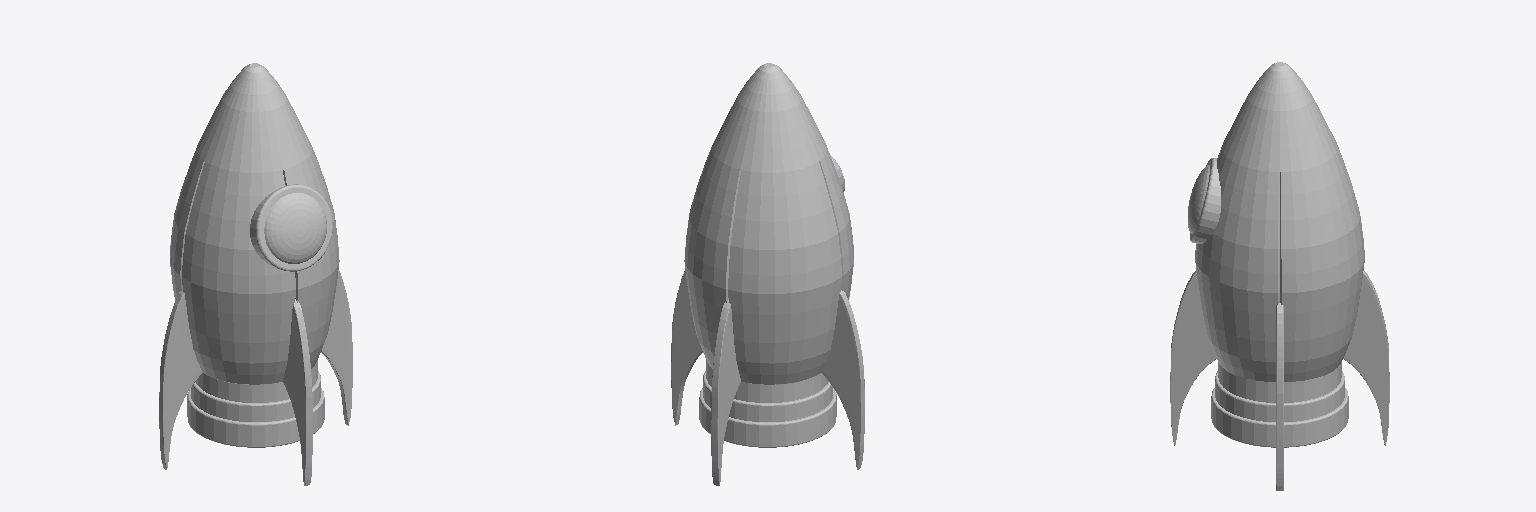
File: rocket4.obj
The picture shows the model from 3 angles: view 1: azimuth 30°, elevation 25°; view 2: azimuth 150°, elevation 25°; view 3: azimuth 270°, elevation 25°; orthographic projection.
Visible parts, largest first — view 1: Body_Cylinder.002, Wings_Cube.003, Tip_Cylinder.003, Engine_Cylinder.006, Window.001_Cylinder.008, Window_Cylinder.007; view 2: Body_Cylinder.002, Wings_Cube.003, Tip_Cylinder.003, Engine_Cylinder.006; view 3: Body_Cylinder.002, Wings_Cube.003, Tip_Cylinder.003, Engine_Cylinder.006, Window_Cylinder.007, Window.001_Cylinder.008.
Boxes of the visible parts, <box> form: Body_Cylinder.002: <box>170,147,339,384</box>; Wings_Cube.003: <box>159,270,352,485</box>; Tip_Cylinder.003: <box>197,63,311,172</box>; Engine_Cylinder.006: <box>187,360,324,447</box>; Window.001_Cylinder.008: <box>264,193,326,263</box>; Window_Cylinder.007: <box>250,184,332,271</box>; Body_Cylinder.002: <box>684,147,853,384</box>; Wings_Cube.003: <box>671,270,864,485</box>; Tip_Cylinder.003: <box>712,63,826,172</box>; Engine_Cylinder.006: <box>699,360,836,447</box>; Body_Cylinder.002: <box>1195,145,1364,381</box>; Wings_Cube.003: <box>1170,271,1389,490</box>; Tip_Cylinder.003: <box>1222,62,1337,171</box>; Engine_Cylinder.006: <box>1211,362,1348,447</box>; Window_Cylinder.007: <box>1190,158,1220,243</box>; Window.001_Cylinder.008: <box>1188,165,1209,233</box>.
Size of the model in its own units: 1.63 by 3.12 by 1.63.